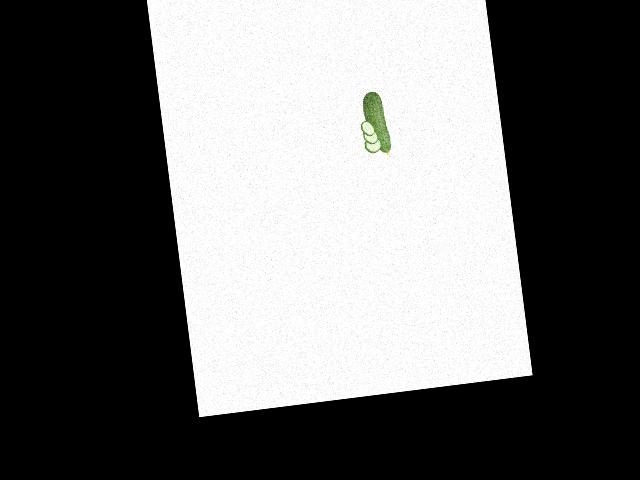cucumber: (360, 89, 391, 158)
